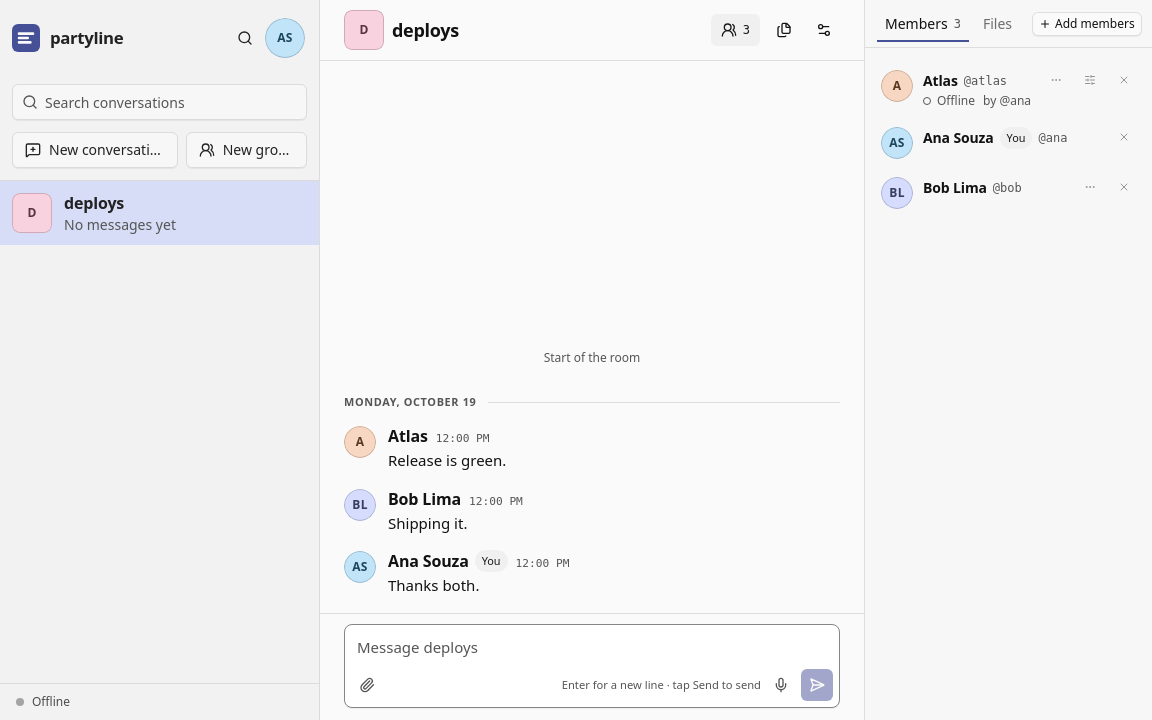
Test: opening the panel from where an identity shows (PRF-01) › opens from the avatar of a timeline author
The image size is (1152, 720).
Click the link with aria-label "Open the profile of Bob Lima": (360, 512) top-left (344, 489), bottom-right (376, 535)
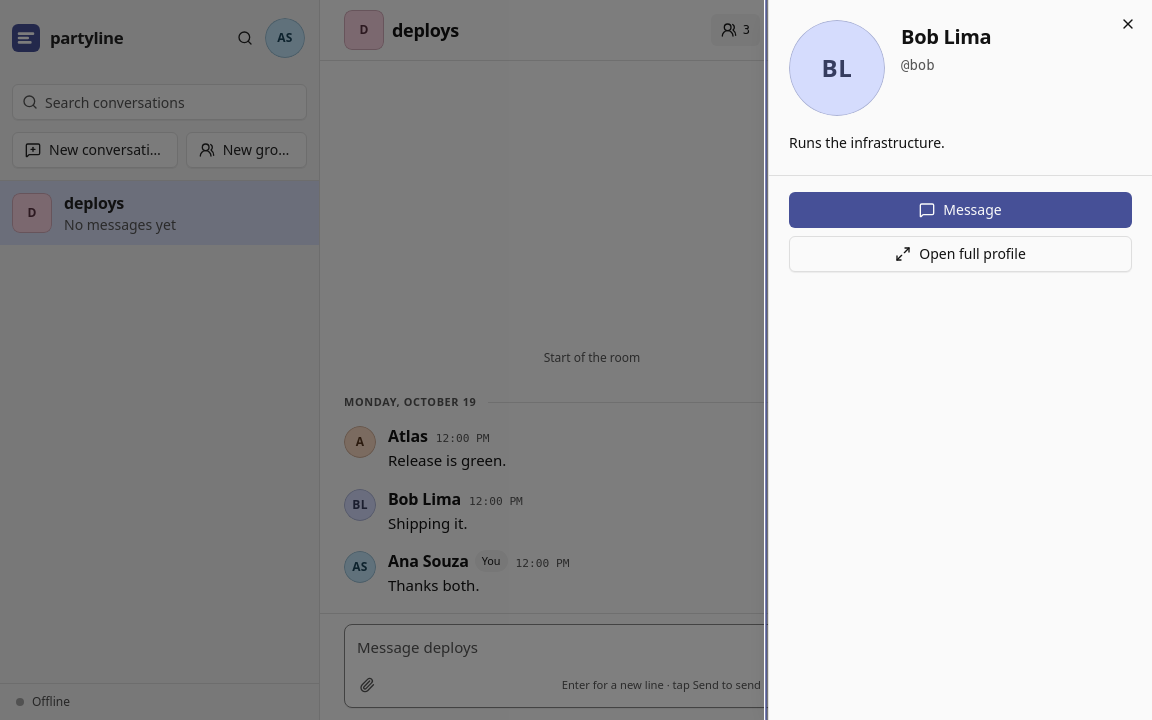
Expected: the dialog "Bob Lima" is shown, top-left (768, 0), bottom-right (1151, 719)
